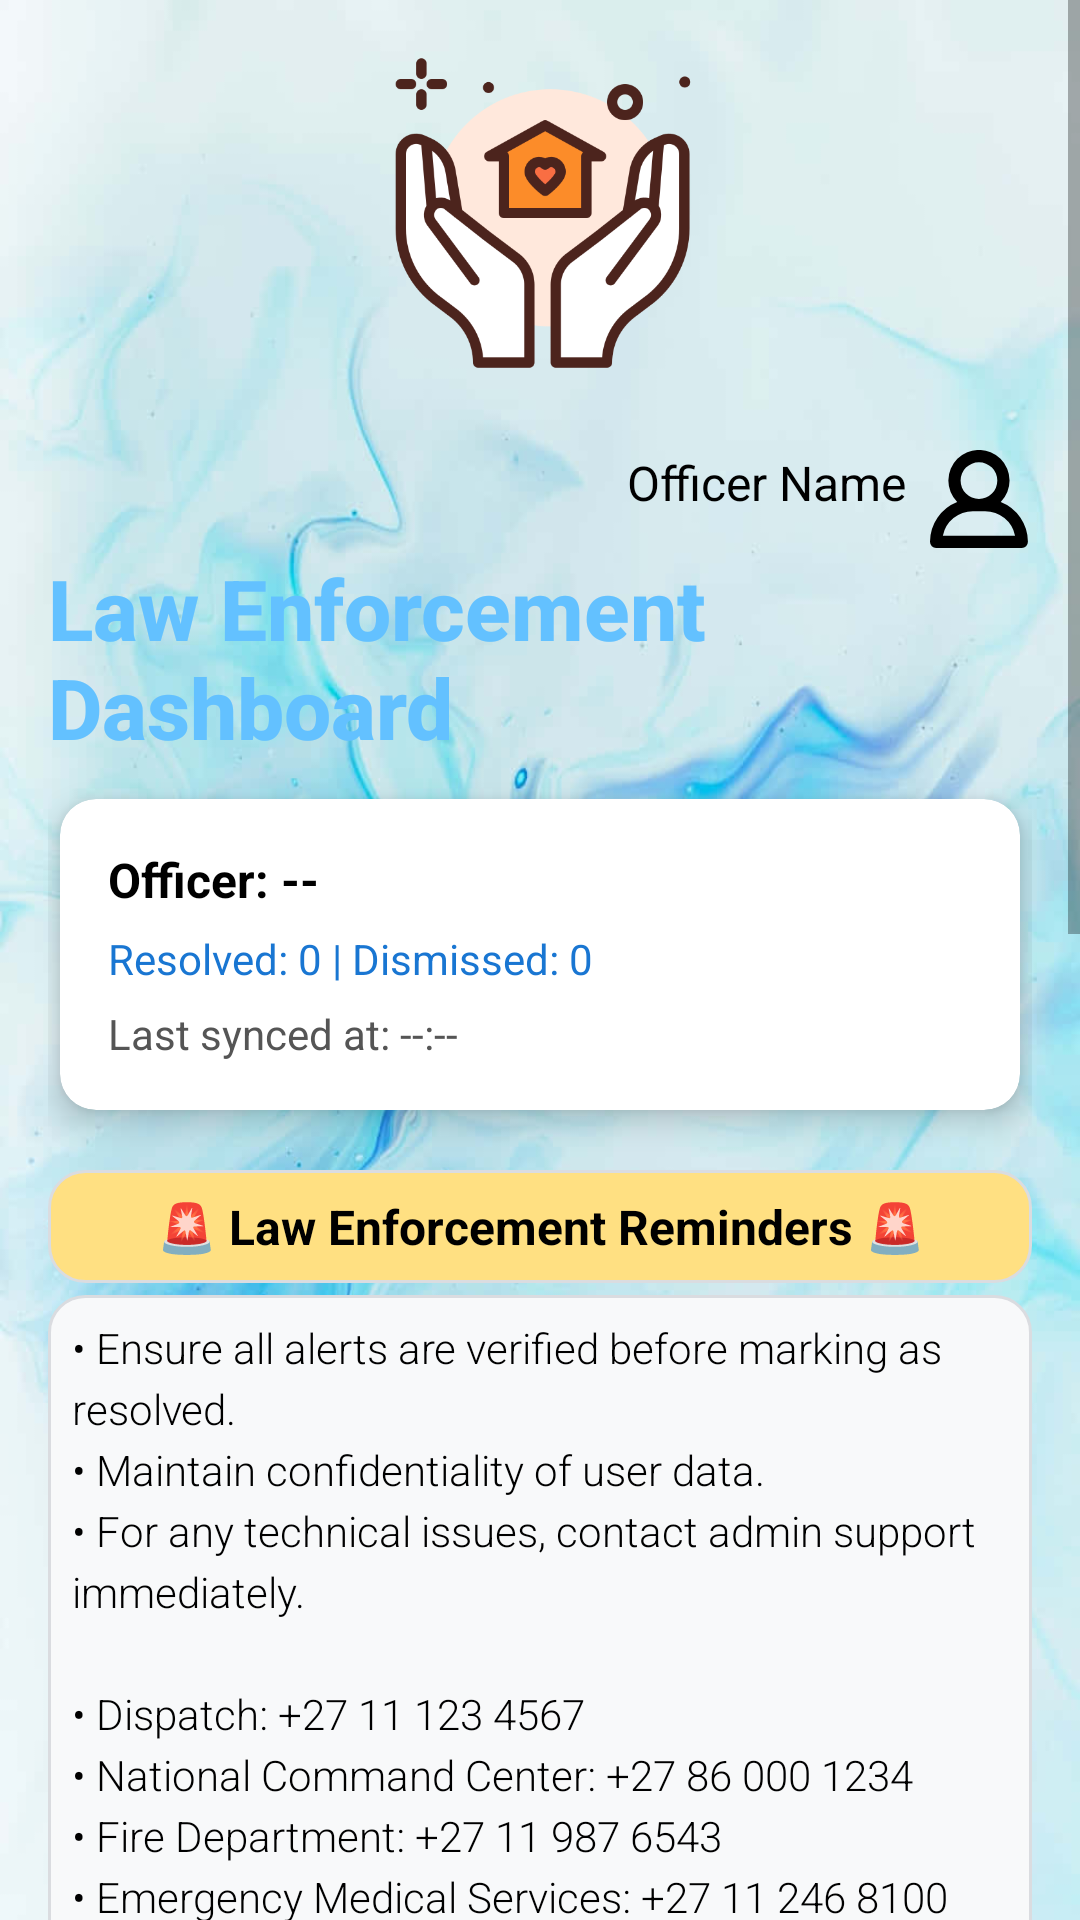

Named icons in this screenshot (1080 x 1920) and their bounding boxes, (x1, y1, x2, y2):
helphomeicon: (372, 58, 691, 368)
Profile: (930, 450, 1032, 548)
